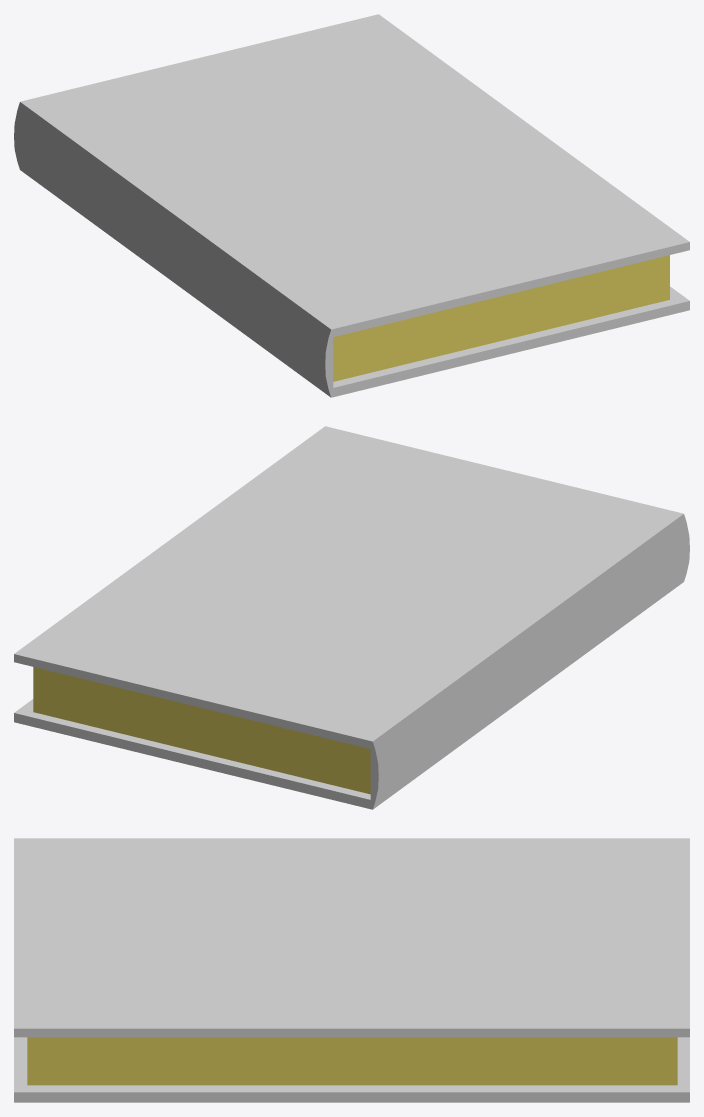
The model's file is Buch.glb.
3 views of the same model, one above another, from view 1: azimuth 30°, elevation 25°; view 2: azimuth 150°, elevation 25°; view 3: azimuth 270°, elevation 25° (orthographic). The views are drawn at different scales.
Parts seen in each view (by area): view 1: Cube; view 2: Cube; view 3: Cube.
Boxes of the visible parts, bbox=[...] form: Cube: bbox=[14, 14, 689, 397]; Cube: bbox=[14, 426, 689, 809]; Cube: bbox=[14, 838, 689, 1102].
Size of the model in its own units: 0.1881 by 0.0336 by 0.278.
